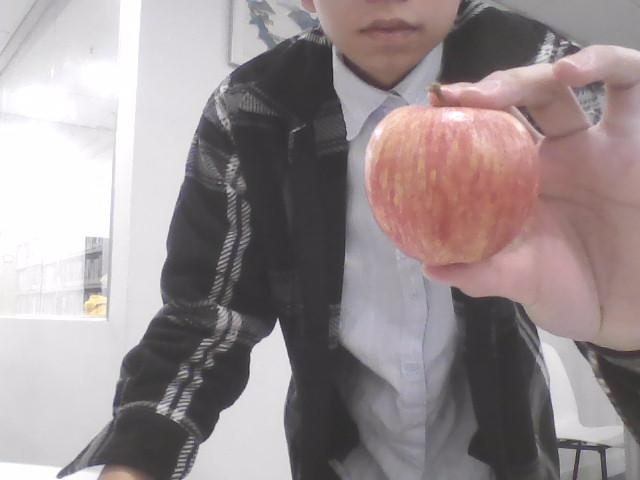apple: (364, 103, 537, 264)
